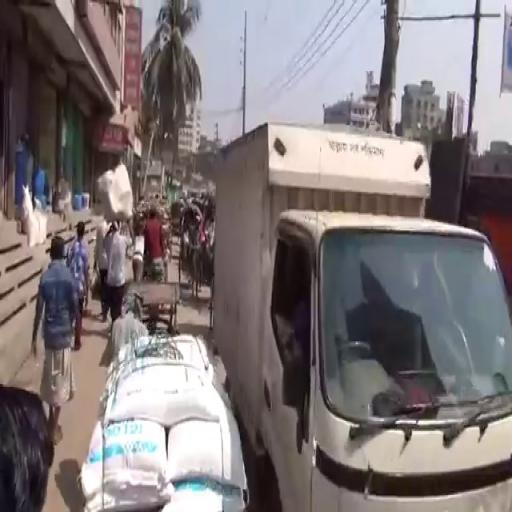pickup: (207, 109, 511, 510)
rickshaw: (179, 194, 207, 304)
wheelbarrow: (122, 274, 181, 330)
